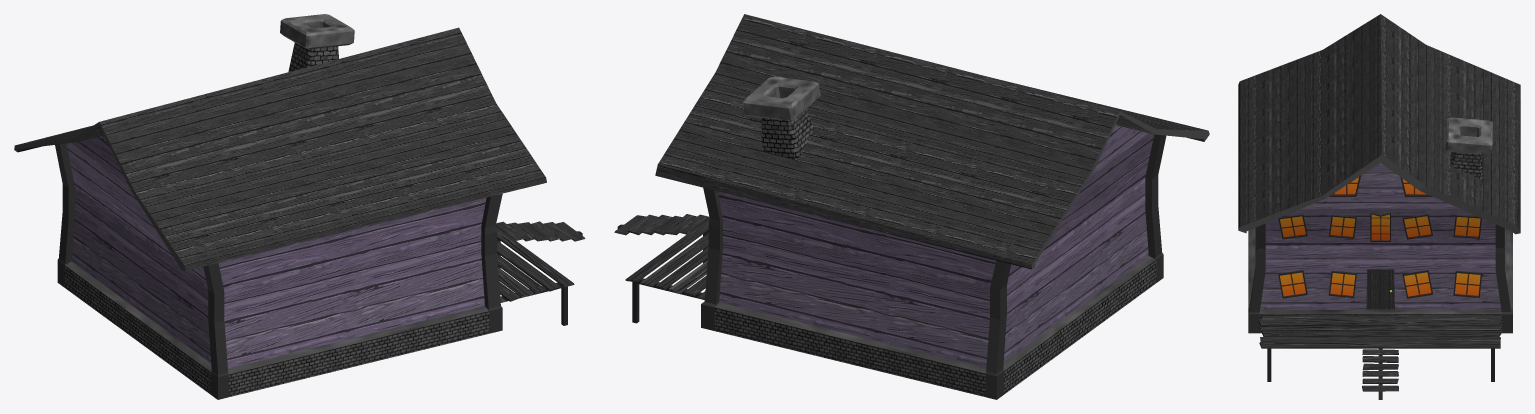
The model's file is SpookyHouse.fbx.
3 views of the same model, side by side, from view 1: azimuth 30°, elevation 25°; view 2: azimuth 150°, elevation 25°; view 3: azimuth 270°, elevation 25° (orthographic). The views are drawn at different scales.
Parts seen in each view (by area): view 1: SpookyHouse; view 2: SpookyHouse; view 3: SpookyHouse.
Part boxes in pixels (x1=…): SpookyHouse: x1=14, y1=14, x2=585, y2=399; SpookyHouse: x1=614, y1=14, x2=1209, y2=399; SpookyHouse: x1=1238, y1=14, x2=1520, y2=399.
Size of the model in its own units: 3390 by 1722 by 2085.
5 materials, 5 textured.
